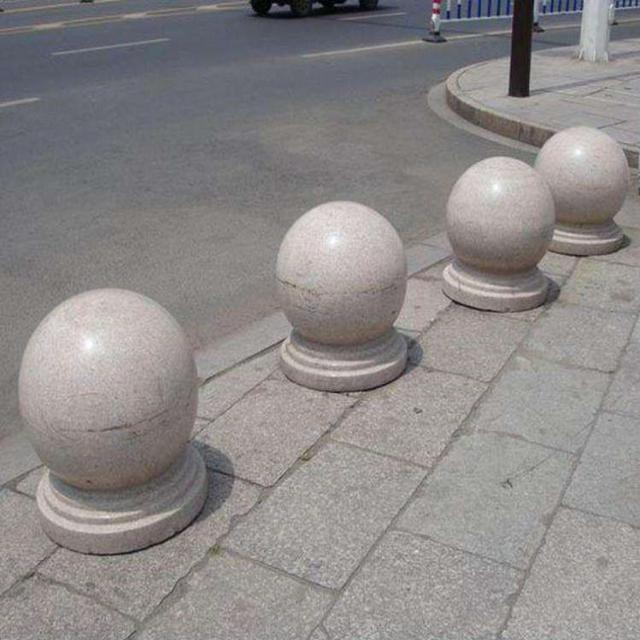car: (244, 0, 384, 18)
pole: (504, 1, 536, 93)
spherical_roadblock: (17, 287, 209, 553), (272, 200, 408, 388), (442, 152, 555, 312), (535, 125, 629, 254)
